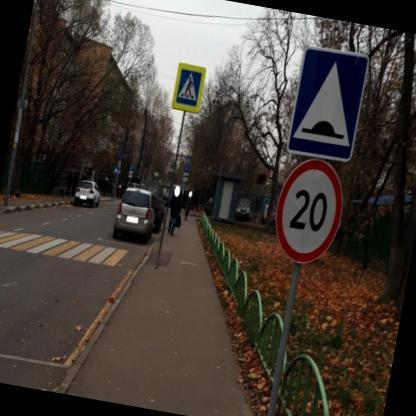road_sign: (288, 49, 367, 160), (276, 159, 342, 263), (172, 63, 205, 112)
